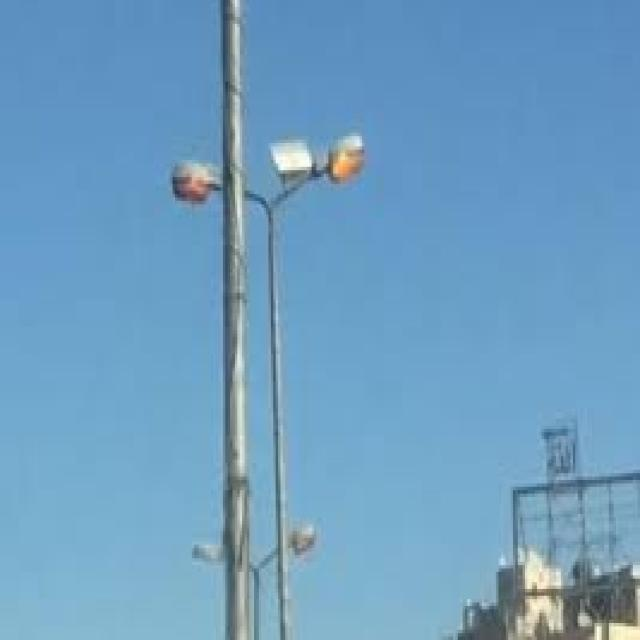Street Light: (172, 129, 364, 640), (192, 521, 316, 640)
